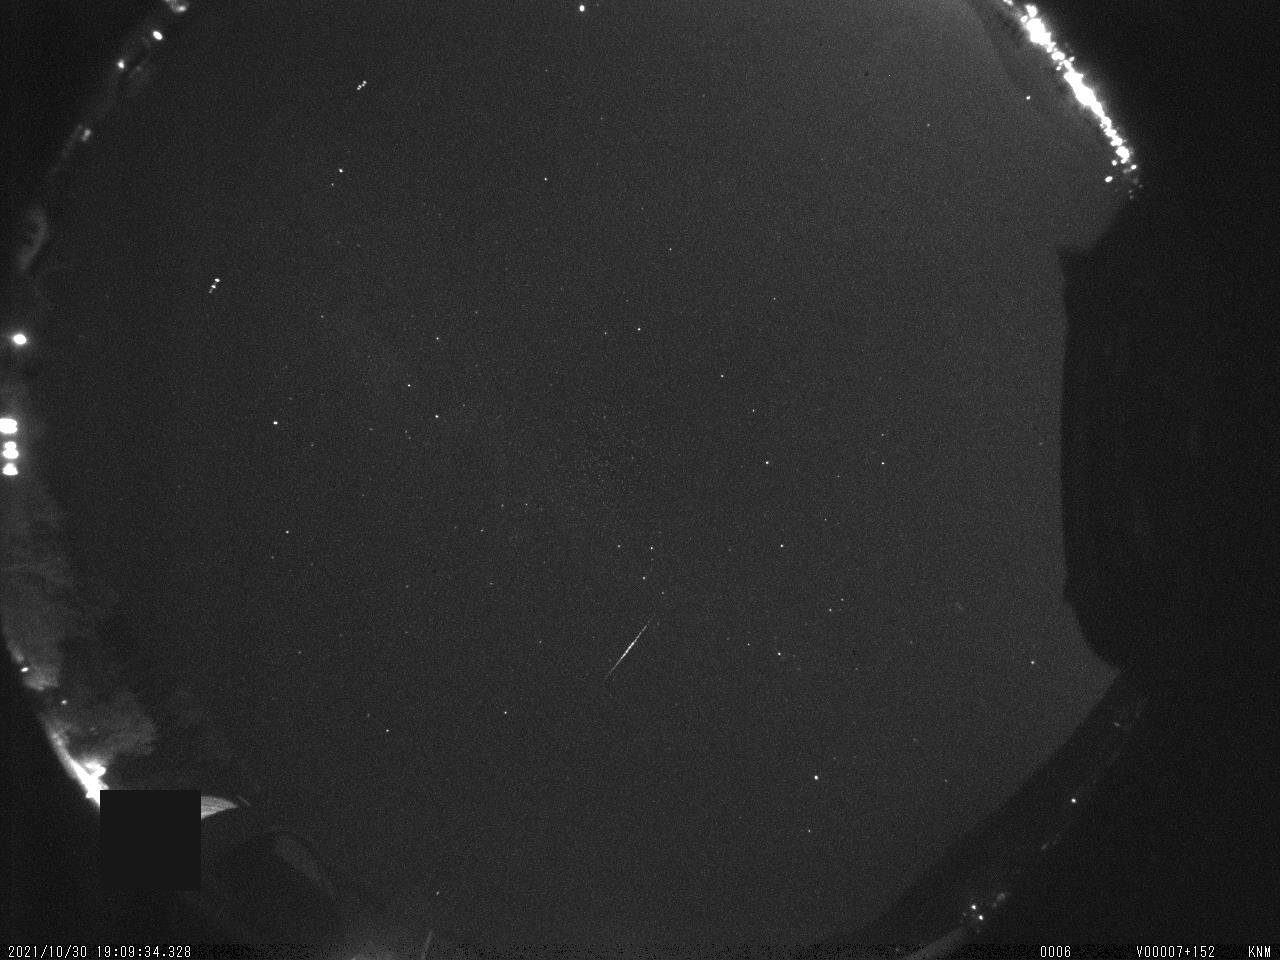meteor: (593, 596, 678, 685)
